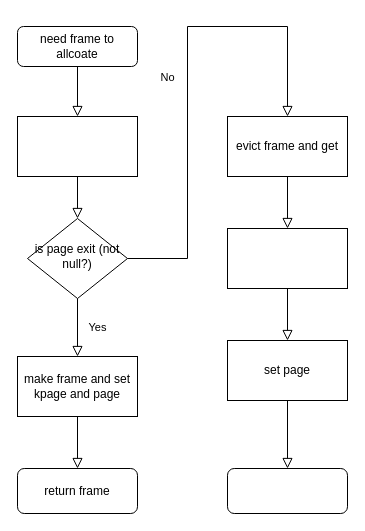
Image size: 365x531. Some labels were removed from this diagram. Each missing label, with the centre of its shape:
get page from user pool: the point at 77,146
pagedir_clear_page (Destruct frame): the point at 287,258
return page: the point at 287,491
